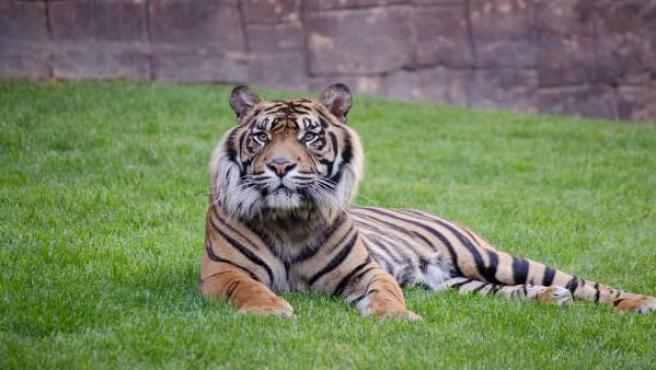Tigrew: (185, 80, 583, 347)
